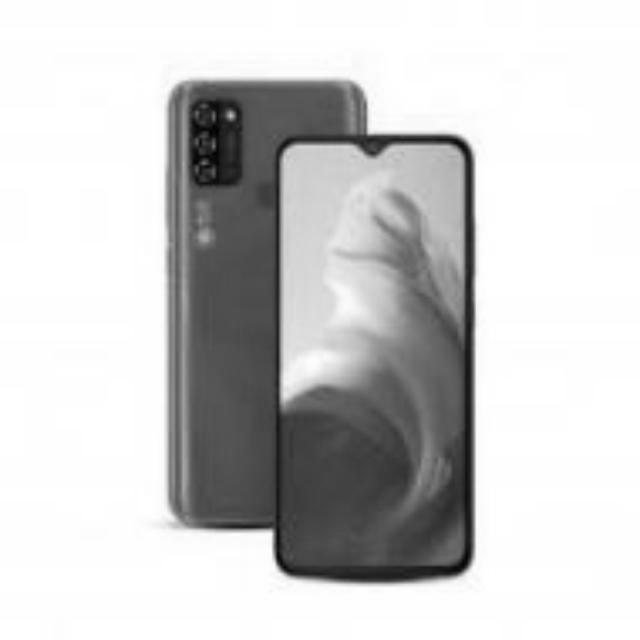fake: (272, 126, 476, 558), (165, 112, 286, 540)
